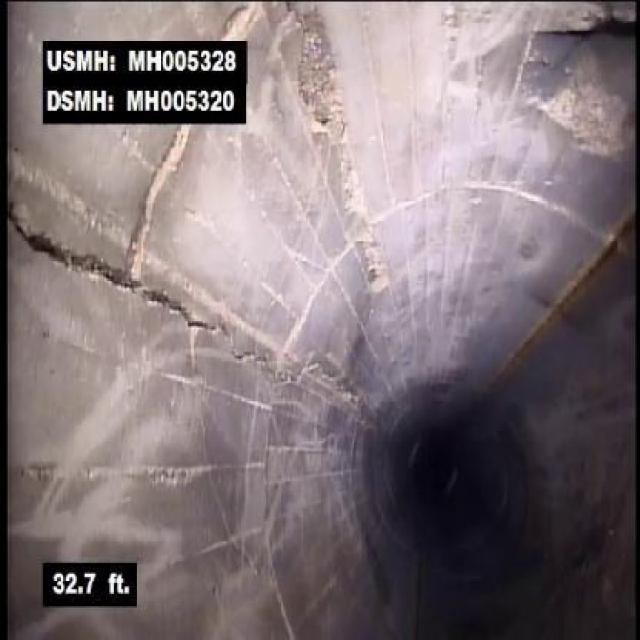Buckling: (117, 282, 272, 376), (8, 202, 122, 288)
Crack: (285, 8, 363, 220), (120, 131, 191, 280), (188, 394, 246, 568)
